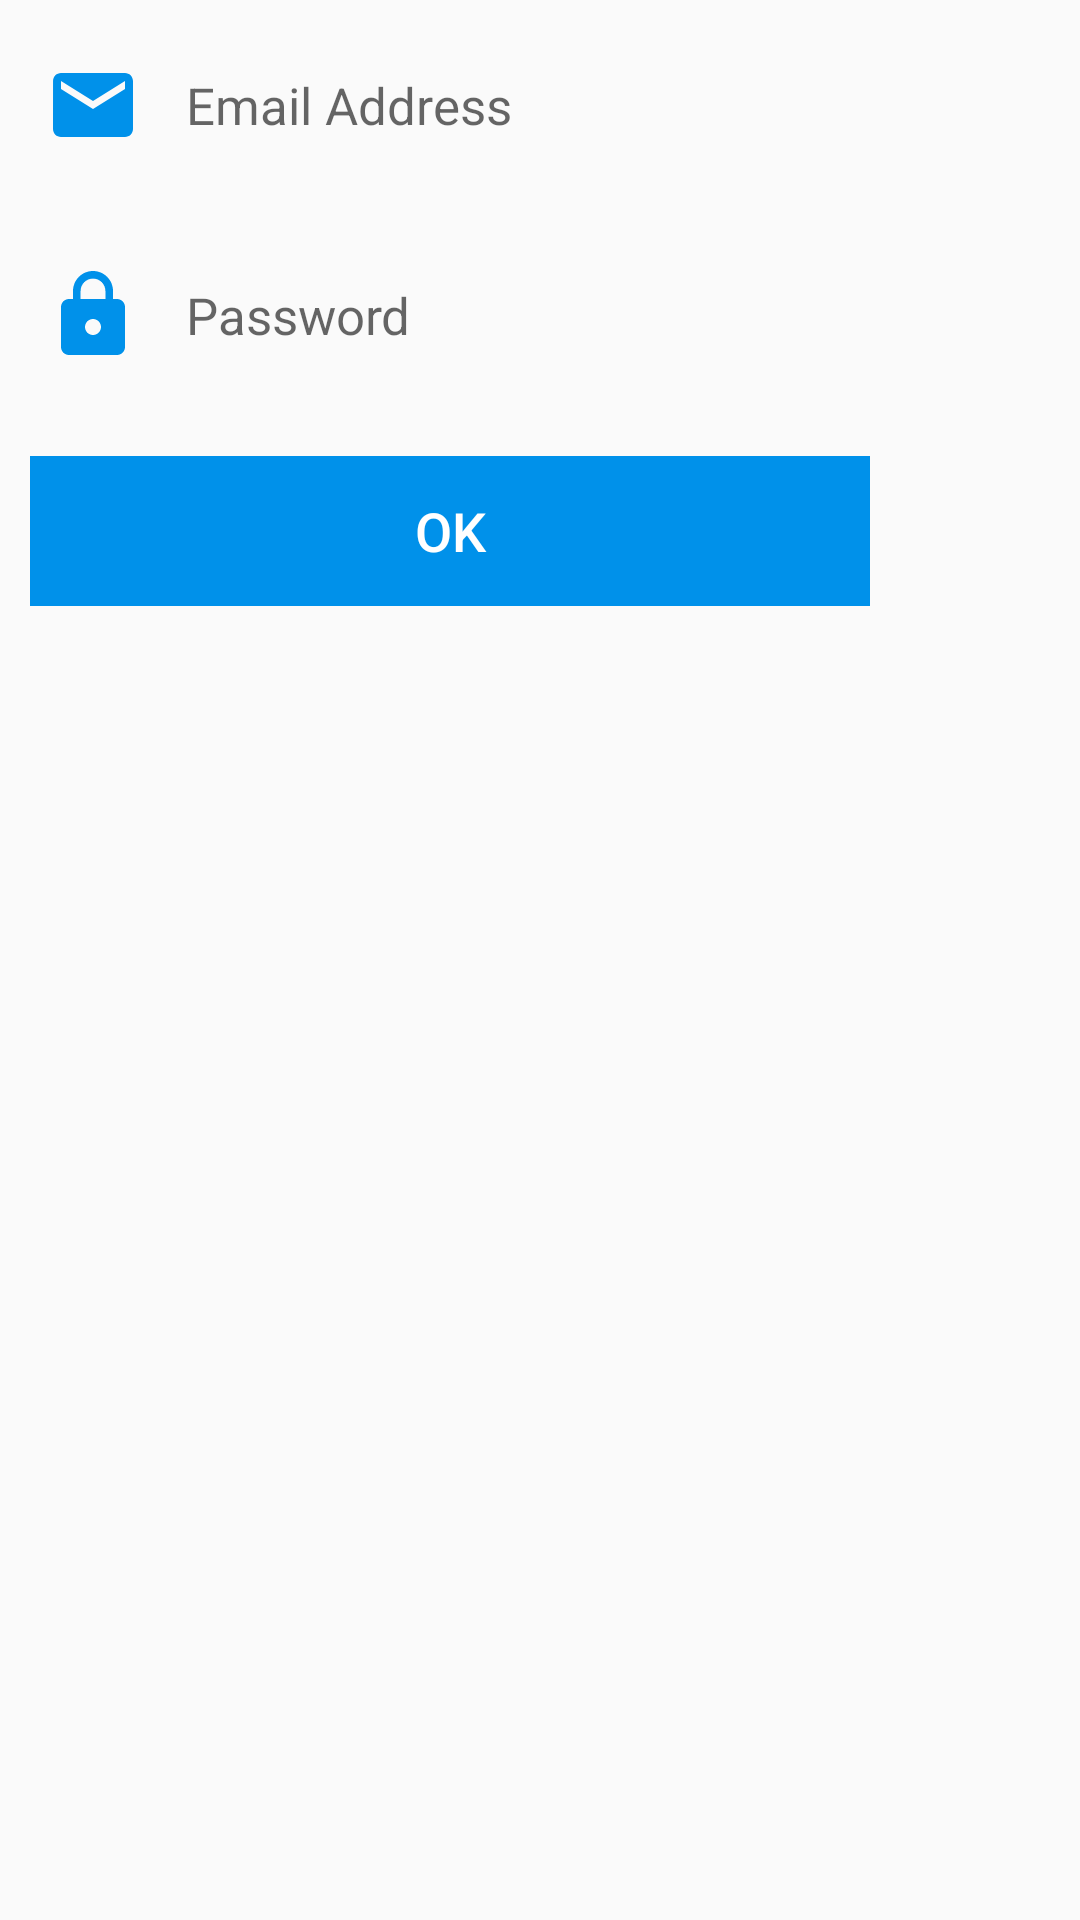

Where icons sit on this 1080x1920 app screen, as [x1,y1,x2,y2]:
login mail: [53,73,133,137]
login pass: [61,271,125,355]
